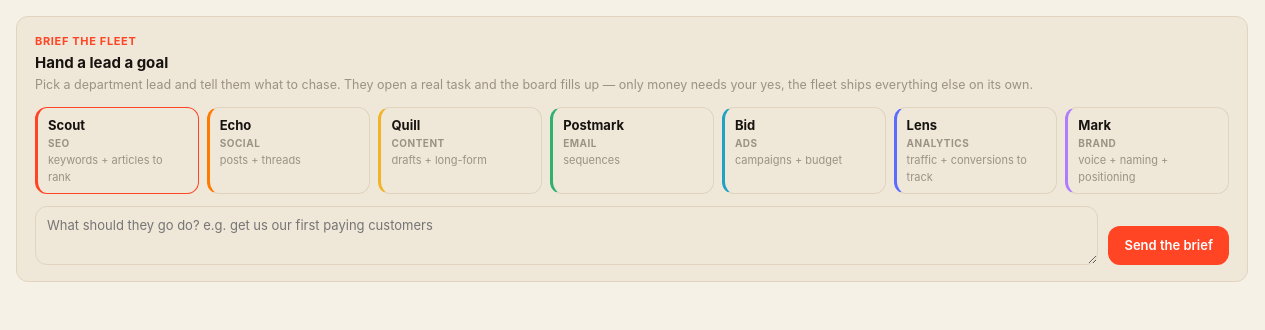
Test case: #235 BriefComposer › renders a quiet error and keeps the goal when the brief fails
Type "spend $50 on ads" into the text box.
click(567, 236); type("spend $50 on ads")  # box [35,206,1098,265]
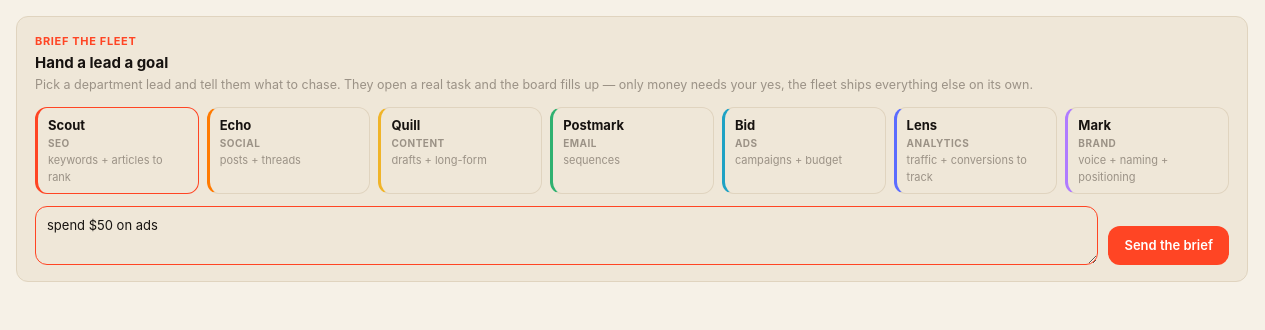
Click the button "Send the brief".
click(1169, 246)  # box [1108,226,1229,265]
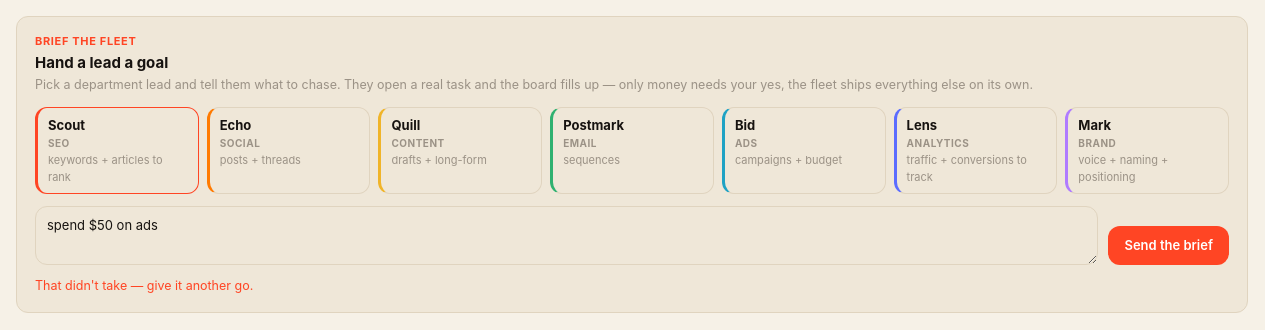
Now the text "That didn't take — give it another go." is shown, box [35,278,253,293]
